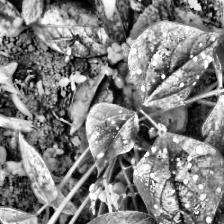Bean Rust: (129, 130, 224, 224), (127, 21, 220, 104), (84, 101, 139, 169)
